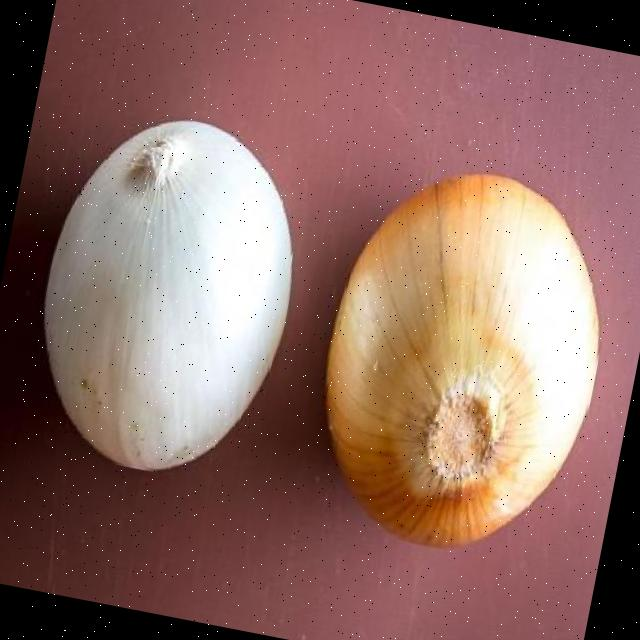Onion: (329, 175, 600, 547), (45, 121, 291, 471)
